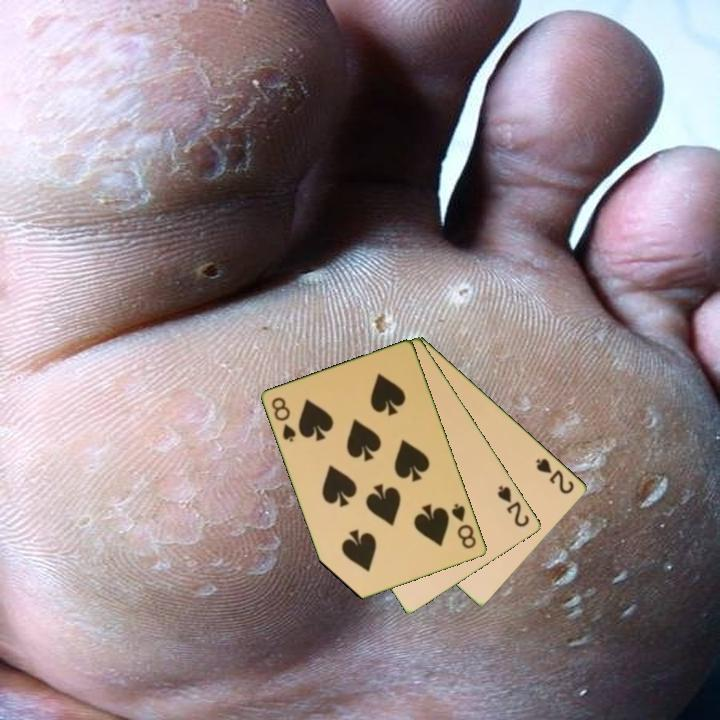2s: (532, 454, 577, 497), (494, 481, 533, 530)
8s: (448, 500, 479, 552), (268, 394, 299, 445)
